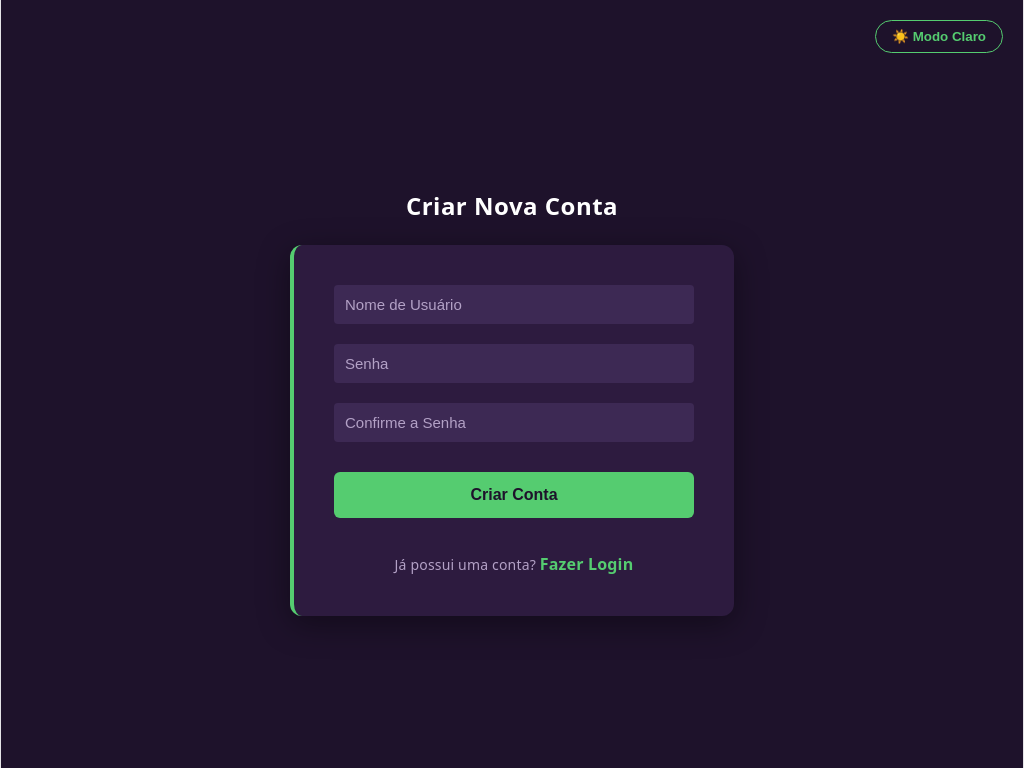
Tela de Cadastro de Usuário › deve interromper o fluxo de envio caso as senhas digitadas sejam divergentes
The image size is (1024, 768).
Type "novo_admin" into the field with placeholder "Nome de Usuário" at (514,304), box [334,285,694,324]
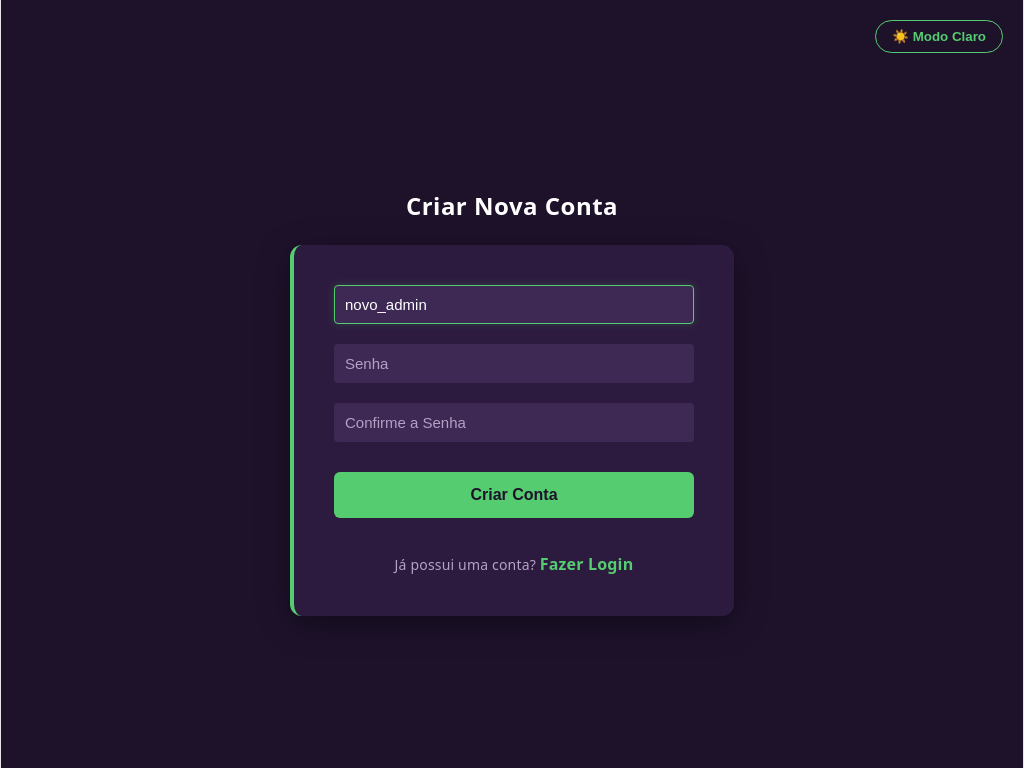
Type "senha123" into the password field with placeholder "Senha" at (514,364), box [334,344,694,383]
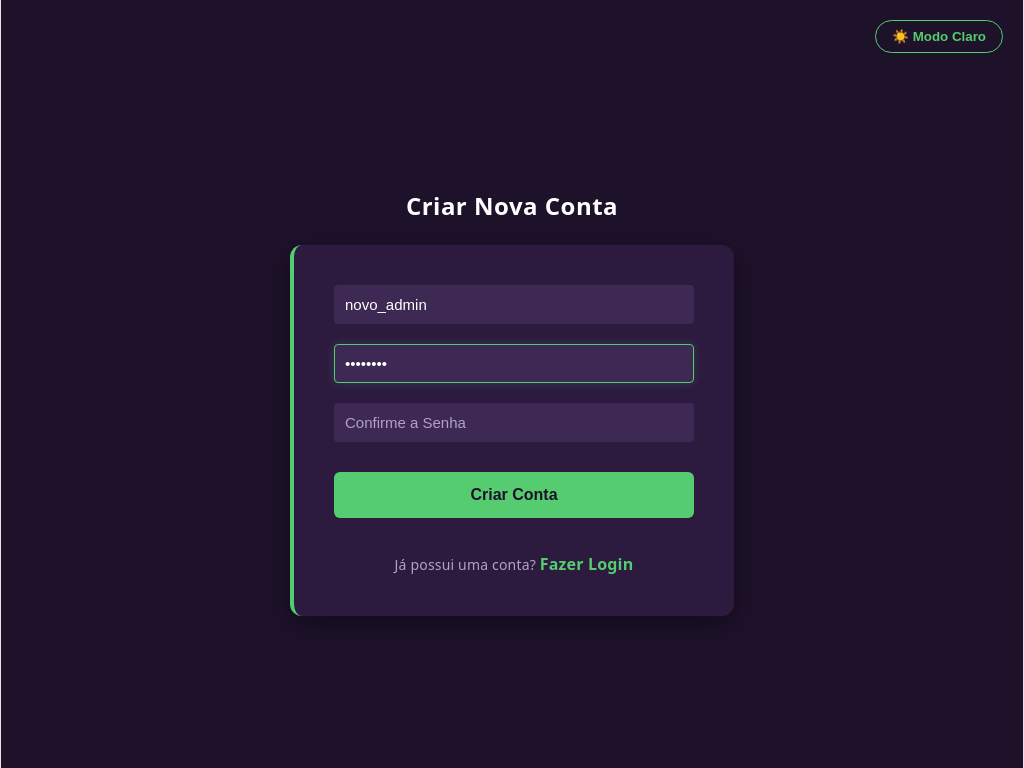
Type "senhaERRADA" into the password field with placeholder "Confirme a Senha" at (514,422), box [334,403,694,442]
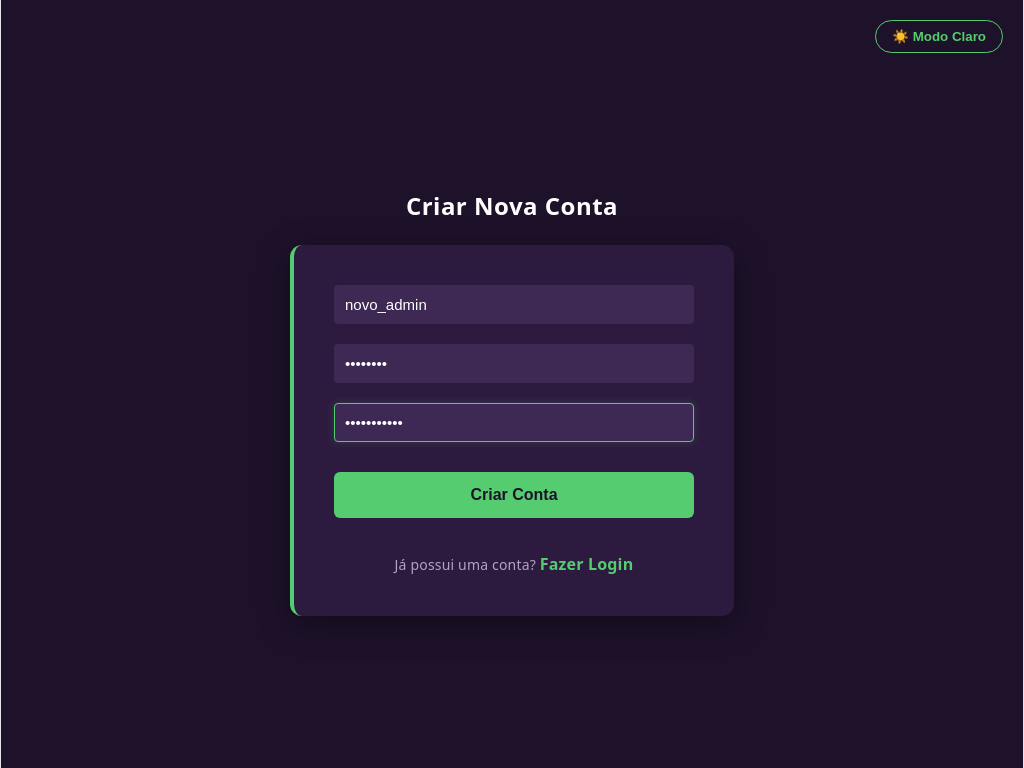
Click the button "Criar Conta" at (514,495), box [334,472,694,518]
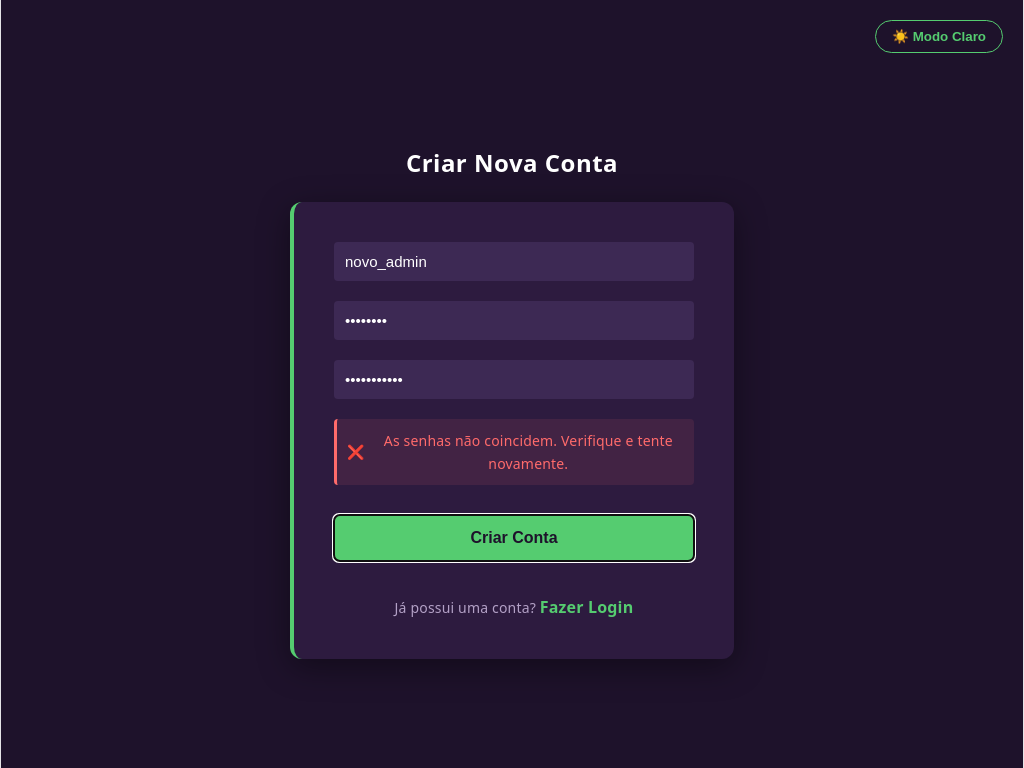
Expected: the text "As senhas não coincidem. Verifique e tente novamente." is shown, [384,431,673,473]
